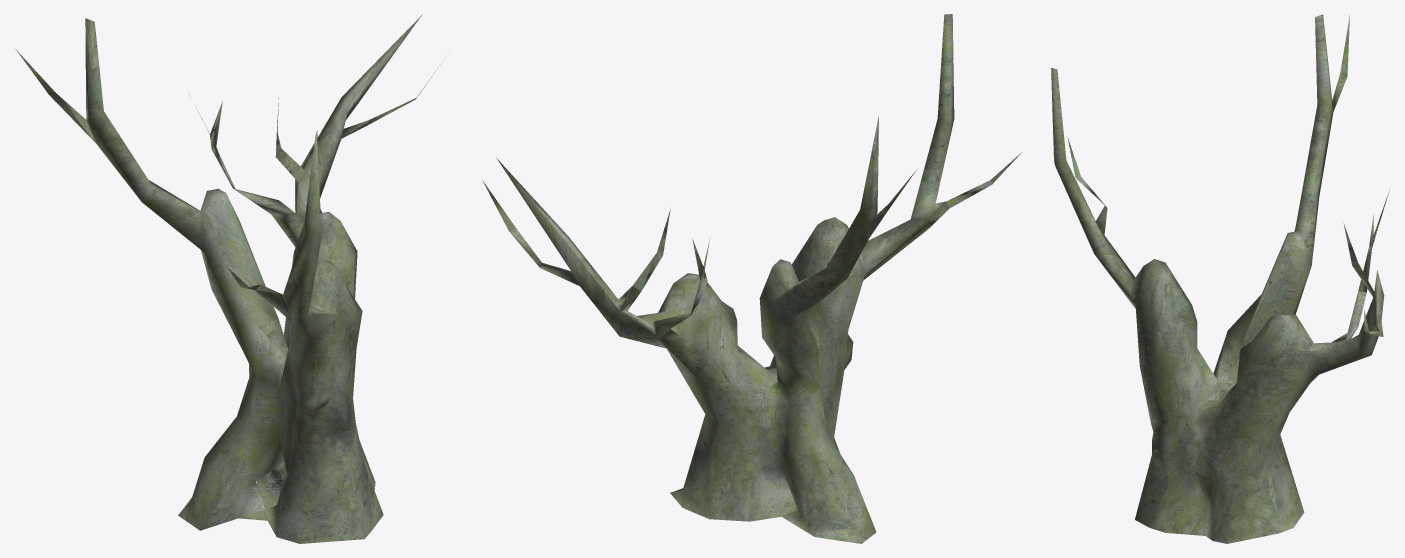
Rendered from Tree_Dry_1_LOD1.obj.
3 views of the same model, side by side, from view 1: azimuth 30°, elevation 25°; view 2: azimuth 150°, elevation 25°; view 3: azimuth 270°, elevation 25° (orthographic). The views are drawn at different scales.
Visible parts, largest first — view 1: Tree_Dry_LOD1; view 2: Tree_Dry_LOD1; view 3: Tree_Dry_LOD1.
Boxes of the visible parts, bbox=[...] form: Tree_Dry_LOD1: bbox=[16, 14, 440, 543]; Tree_Dry_LOD1: bbox=[482, 14, 1021, 543]; Tree_Dry_LOD1: bbox=[1051, 14, 1389, 543].
Size of the model in its own units: 6772 by 7064 by 5035.
